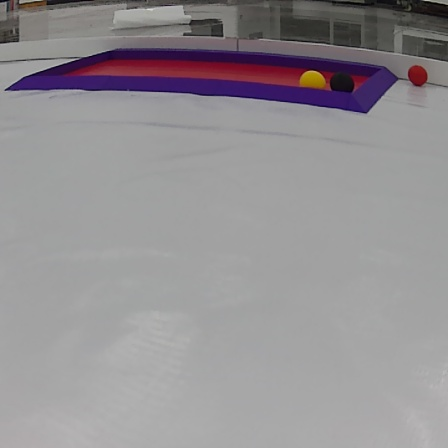black: (330, 72, 351, 93)
red: (406, 64, 429, 88)
red_aim: (6, 44, 401, 121)
yellow: (297, 71, 324, 92)
